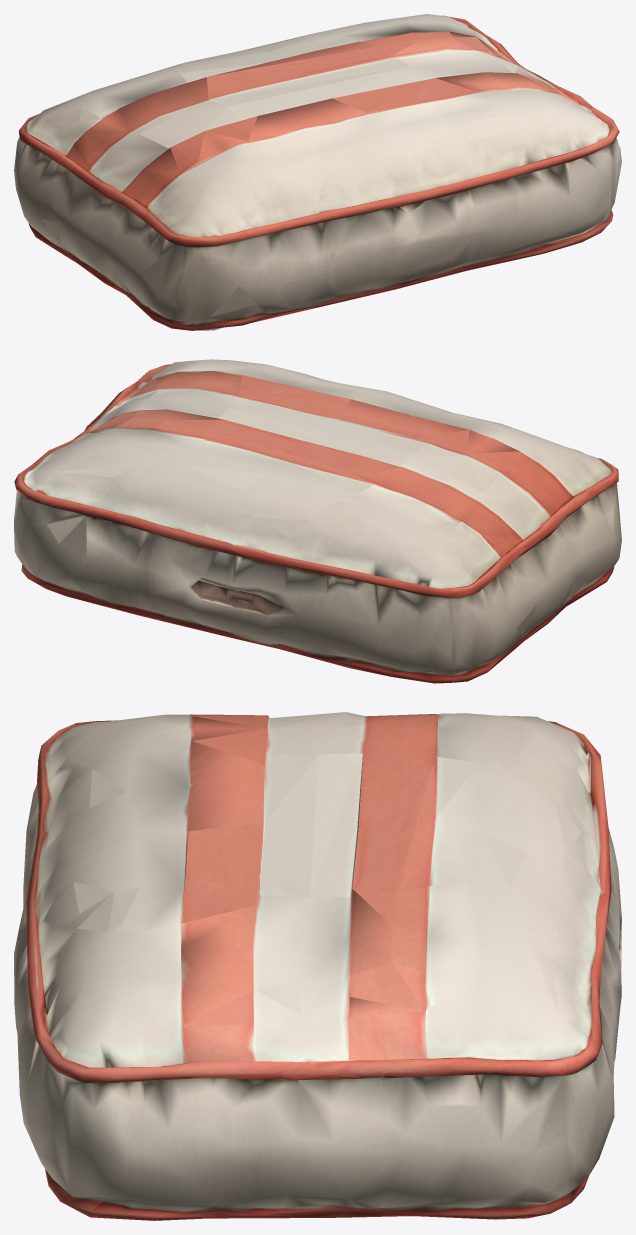
File: blocking_cushion.glb
The picture shows the model from 3 angles, top to bottom: view 1: azimuth 30°, elevation 25°; view 2: azimuth 150°, elevation 25°; view 3: azimuth 270°, elevation 25°; orthographic projection. The views are drawn at different scales.
Parts seen in each view (by area): view 1: tripo_node_5eb48669; view 2: tripo_node_5eb48669; view 3: tripo_node_5eb48669.
Part boxes in pixels (<box>): tripo_node_5eb48669: <box>14,14,621,330</box>; tripo_node_5eb48669: <box>14,359,621,683</box>; tripo_node_5eb48669: <box>14,712,621,1220</box>.
Bounding box in the file's own units: 0.7381 × 0.2339 × 0.508.
1 material, 1 textured.
